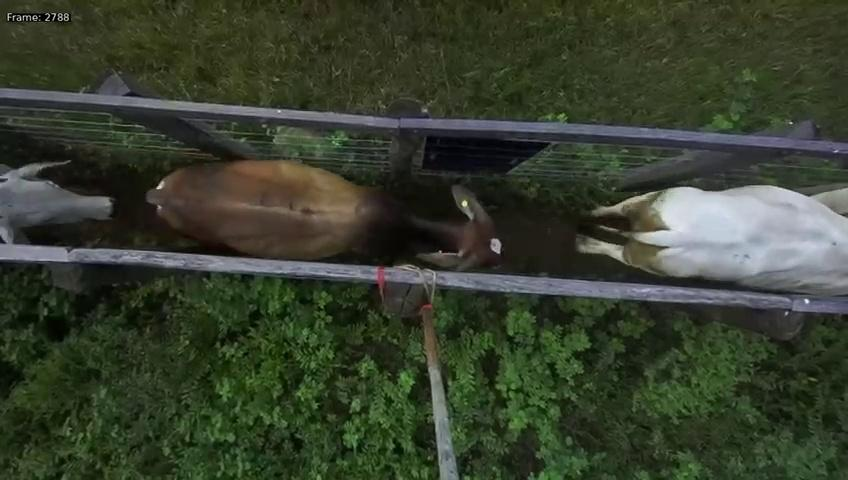cattle: (143, 150, 513, 284)
